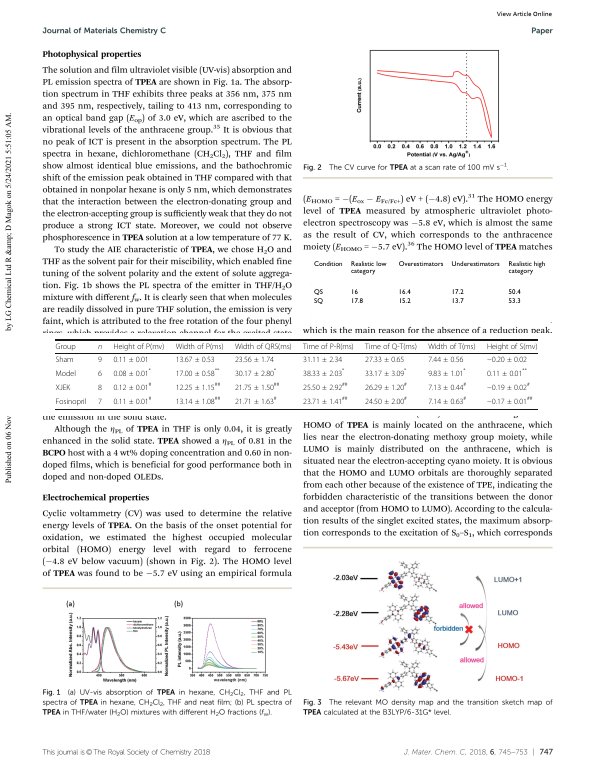borderless: (55, 338, 538, 409), (308, 258, 548, 316)
cell: (507, 260, 546, 276), (349, 260, 387, 276), (234, 342, 293, 351), (486, 395, 533, 406), (175, 381, 221, 392), (234, 381, 280, 392), (302, 381, 348, 392), (175, 395, 221, 406), (302, 395, 348, 406), (175, 367, 220, 378), (486, 381, 531, 392), (364, 342, 418, 351), (364, 381, 408, 392), (234, 395, 278, 406), (364, 395, 408, 406), (112, 342, 165, 351), (302, 342, 355, 351), (234, 367, 277, 378), (302, 367, 345, 378), (364, 367, 407, 378), (486, 342, 538, 351), (486, 367, 528, 378), (450, 260, 500, 269), (427, 342, 477, 351), (175, 342, 224, 351), (112, 367, 152, 378), (427, 367, 467, 378), (112, 381, 152, 392), (427, 381, 467, 392), (112, 395, 152, 406), (427, 395, 467, 406), (397, 260, 444, 269), (486, 355, 528, 364), (175, 355, 216, 364), (234, 355, 275, 364), (302, 355, 343, 364), (364, 355, 405, 364), (112, 355, 150, 364), (427, 355, 464, 364), (55, 397, 87, 406), (313, 260, 343, 269), (55, 369, 77, 378), (55, 342, 76, 351), (55, 355, 74, 364), (55, 383, 71, 392), (397, 288, 411, 297), (450, 288, 464, 297), (507, 288, 521, 297), (349, 297, 363, 306), (397, 297, 411, 306), (450, 297, 464, 306), (507, 297, 521, 306), (313, 288, 323, 297), (313, 297, 323, 306), (349, 288, 358, 297), (97, 355, 103, 364), (97, 369, 103, 378), (97, 383, 103, 392), (97, 397, 103, 406), (97, 344, 103, 350)
